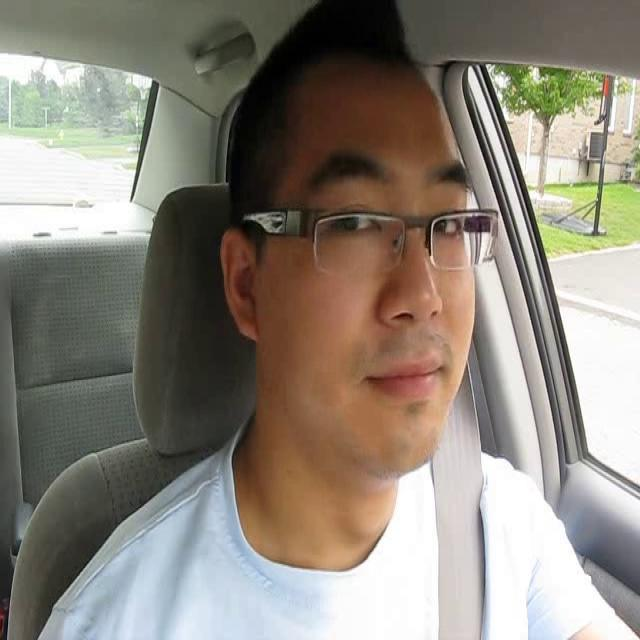close: (366, 348, 448, 408)
